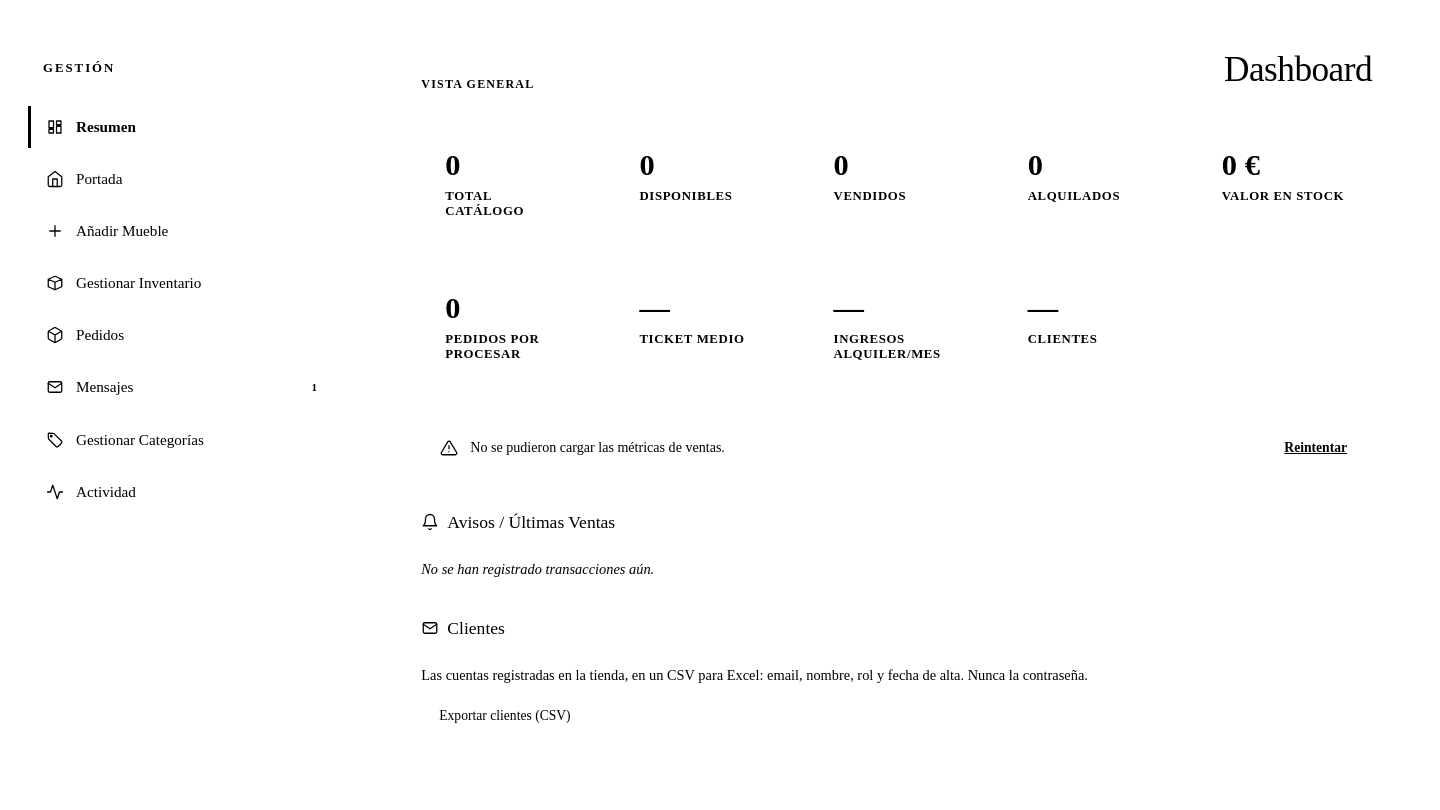
Test: Mensajes — la lista › cabecera con el recuento, y cada fila con nombre, email y mensaje recortados, fecha y estado
Click the button "Mensajes 1". click: (105, 387)
box: [28, 366, 341, 409]
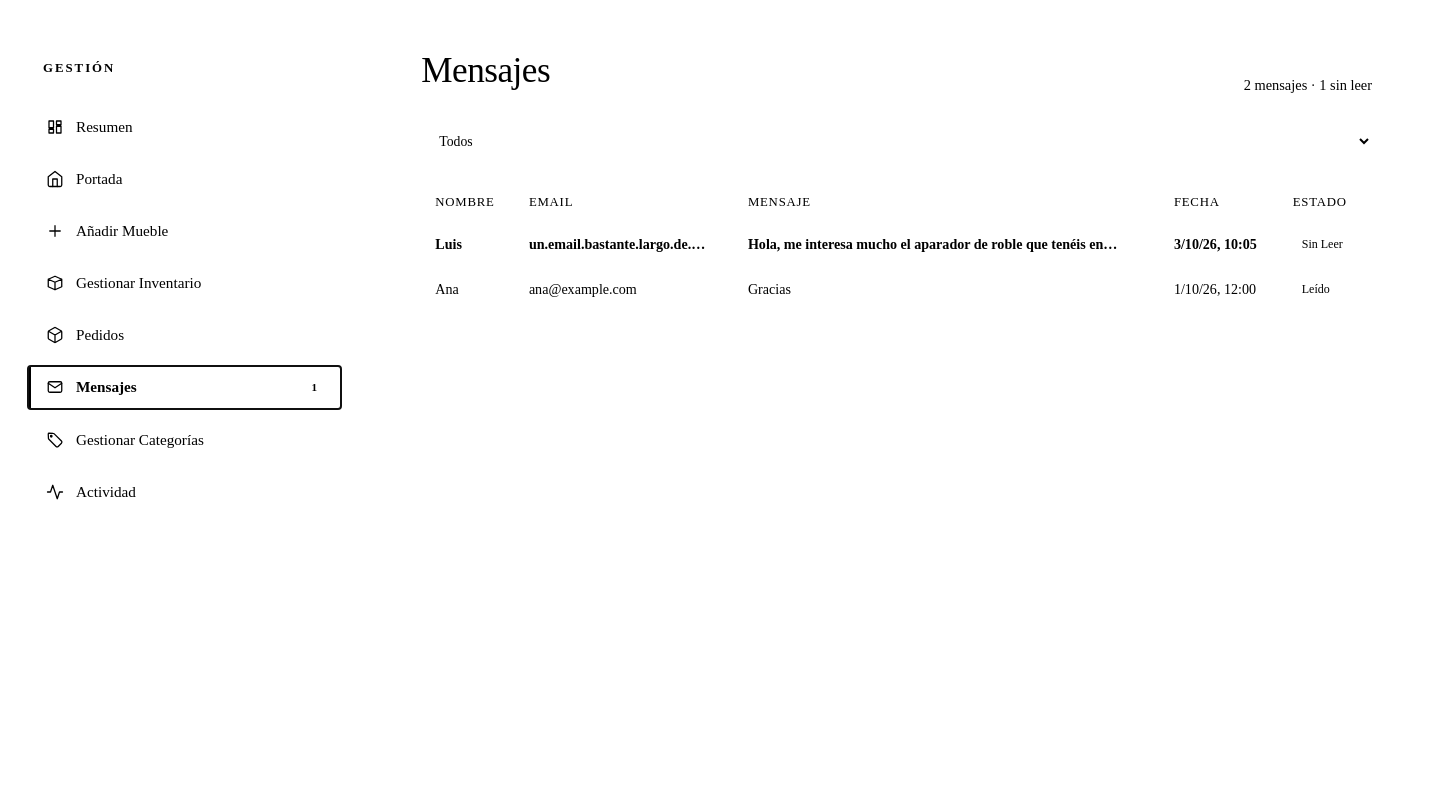
Now the heading "Mensajes" is shown, box [421, 48, 550, 94]
Now the text "2 mensajes · 1 sin leer" is shown, box [1244, 77, 1372, 94]
Now the cells read "Luis", "un.email.bastante.largo.de.…", "Hola, me interesa mucho el aparador de roble que tenéis en…", "3/10/26, 10:05", "Sin leer", in this order, box [421, 222, 515, 267]; [515, 222, 734, 267]; [734, 222, 1160, 267]; [1160, 222, 1279, 267]; [1279, 222, 1372, 267]
